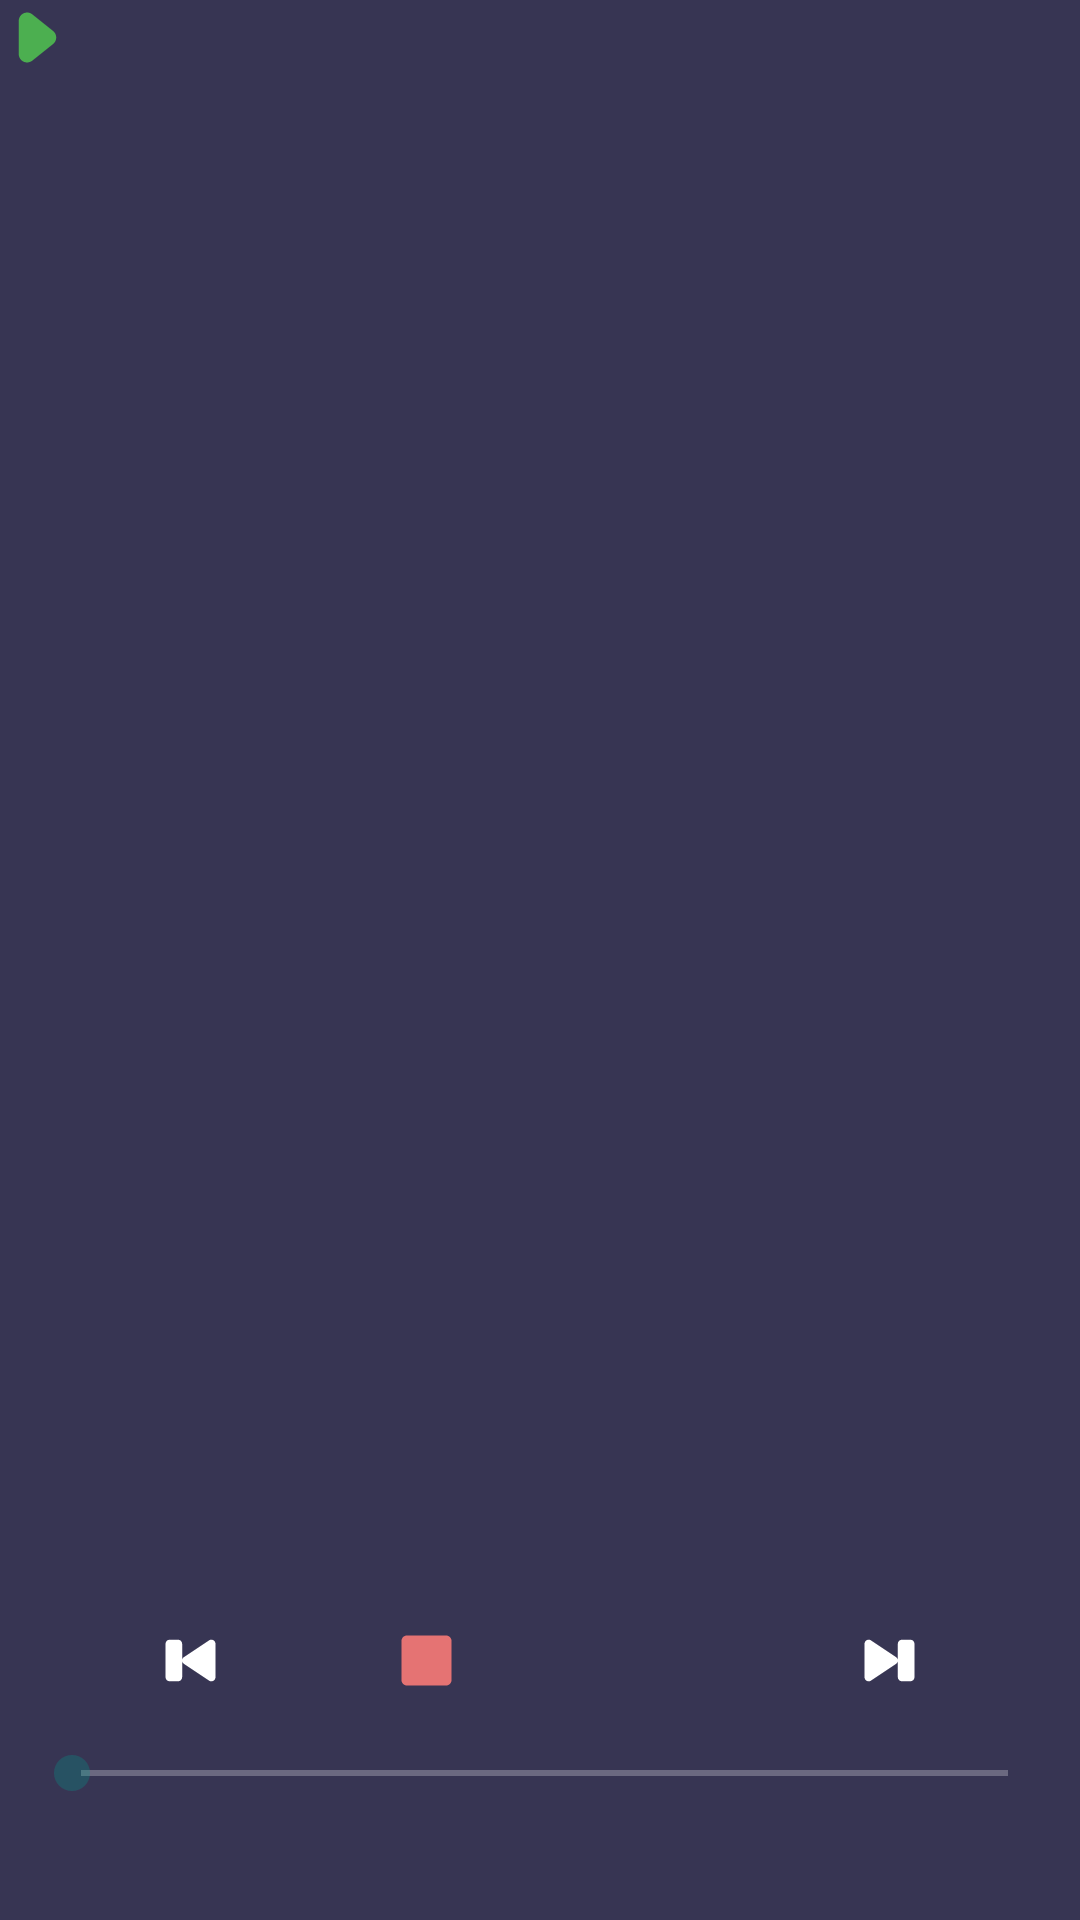

Where icons sit on this 1080 × 1920 app screen, as BBox(x1, y1, x2, y2):
play: BBox(18, 12, 57, 63)
Skip to next: BBox(864, 1639, 915, 1682)
Skip to previous: BBox(165, 1639, 216, 1682)
Stop: BBox(401, 1635, 452, 1686)
